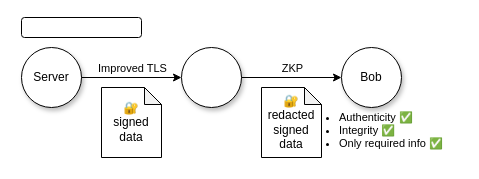
Image size: 479x179. Some labels were removed from this diagram. Here are the shapes that lost their labels. From the top down, the centre of each, then its label:
At point 81,27: "Ultimate solution".
At point 212,78: "Alice".
